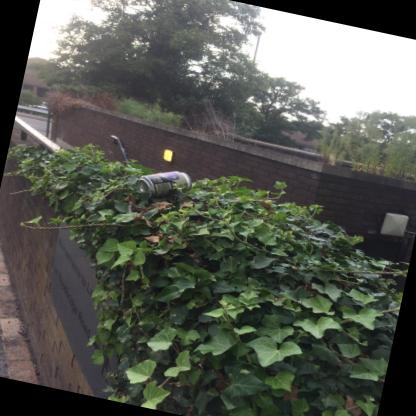Metal: (137, 171, 191, 198)
